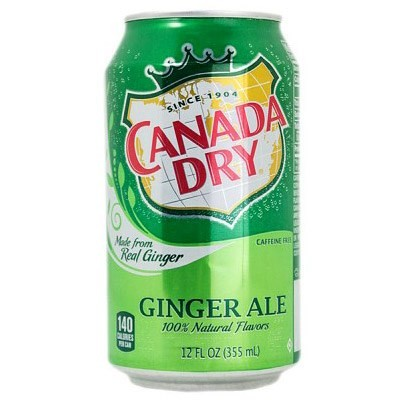Lata: (98, 9, 307, 395)
